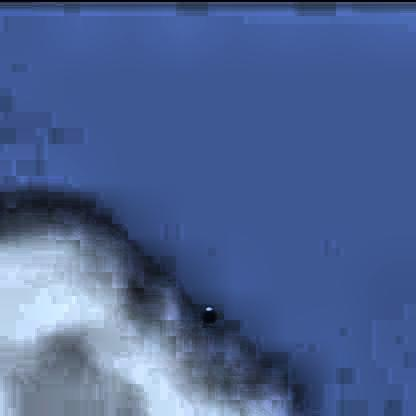golfball: (199, 305, 215, 321)
